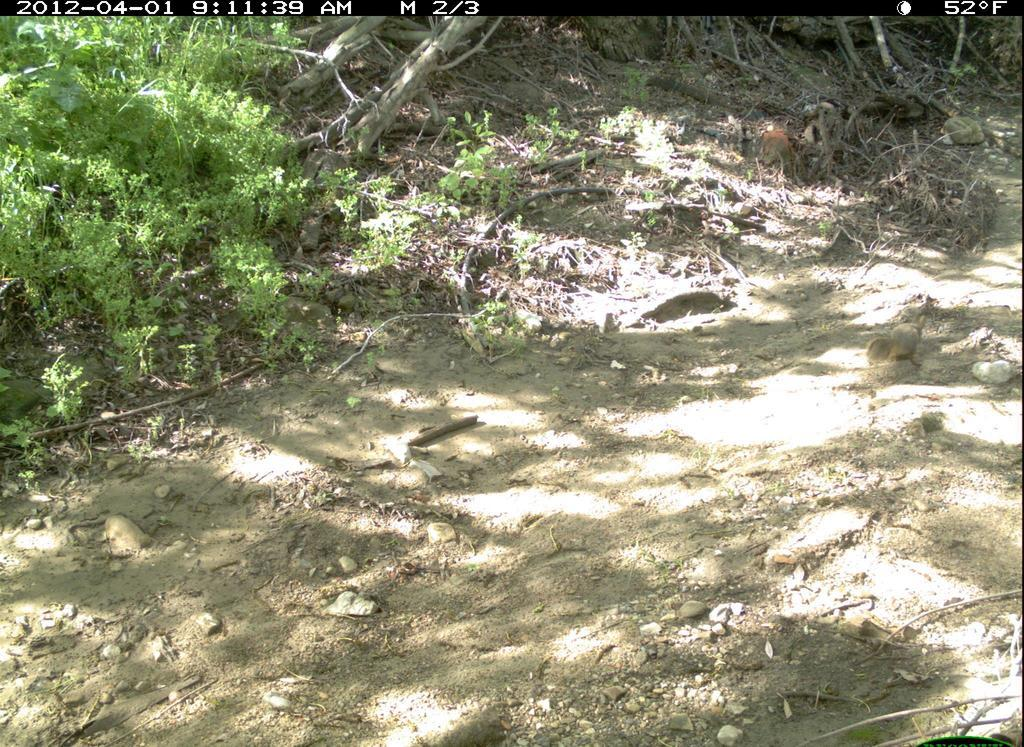squirrel: (864, 313, 933, 373)
